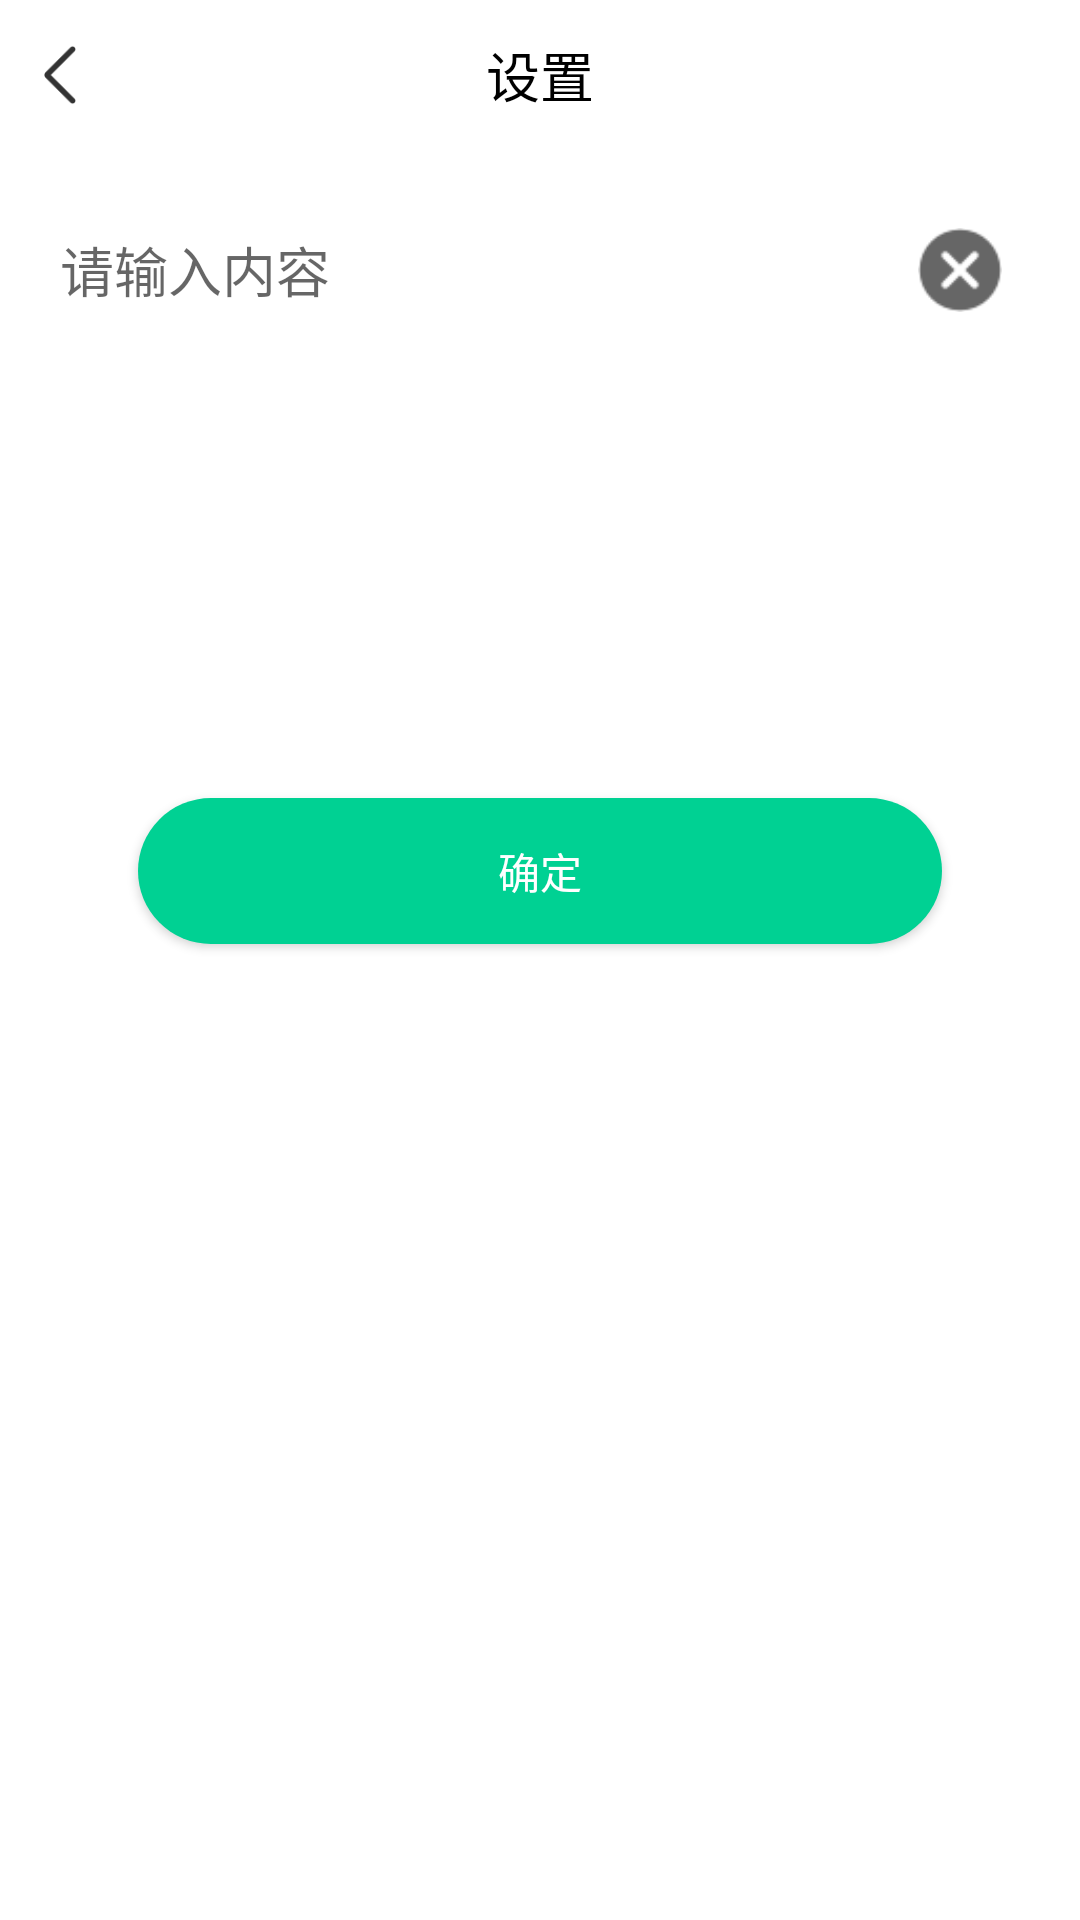

Icons on this 1080x1920 Android screen, each with its box as bbox=[x1, y1, x2, y2]:
back: bbox=[44, 46, 76, 104]
guanbi: bbox=[918, 228, 1002, 312]
